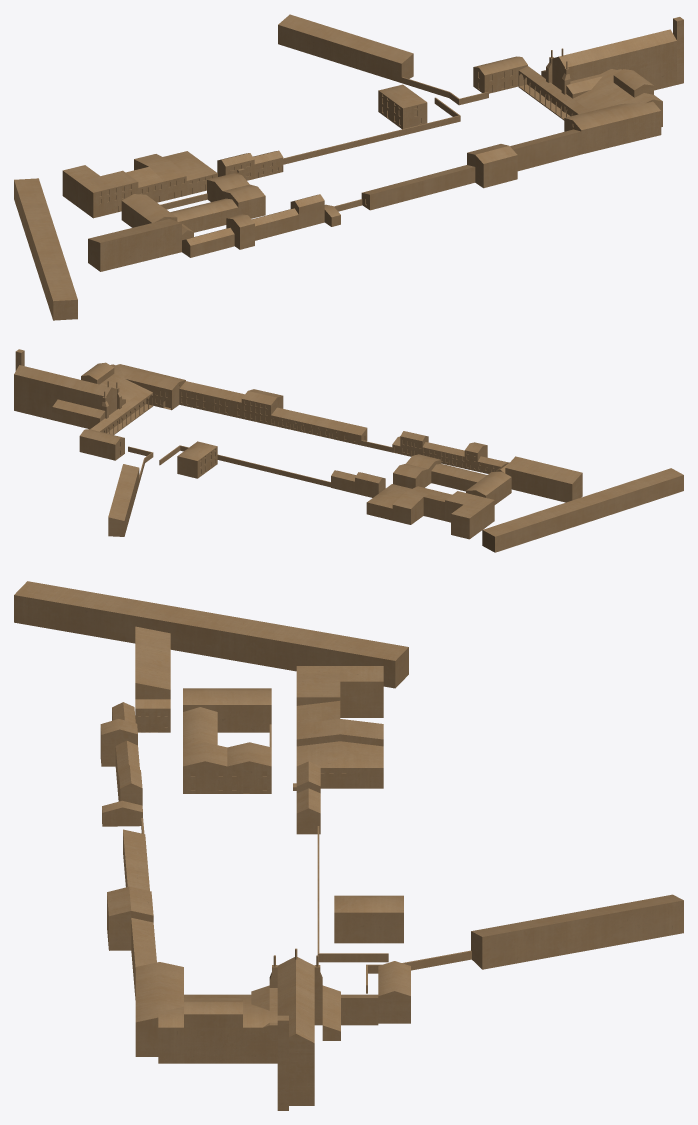
Rendered from Edifici prova cartone.glb.
3 views of the same model, one above another, from view 1: azimuth 30°, elevation 25°; view 2: azimuth 150°, elevation 25°; view 3: azimuth 270°, elevation 25° (orthographic). The views are drawn at different scales.
Parts seen in each view (by area): view 1: Booleana_12; view 2: Booleana_12; view 3: Booleana_12.
Boxes of the visible parts, box(x1,y1,x2,y2) form: Booleana_12: box(14, 14, 683, 320); Booleana_12: box(14, 349, 683, 552); Booleana_12: box(14, 581, 683, 1110).
Bounding box in the file's own units: 310 × 26.18 × 176.
Materials: 1 (1 with a texture image).
